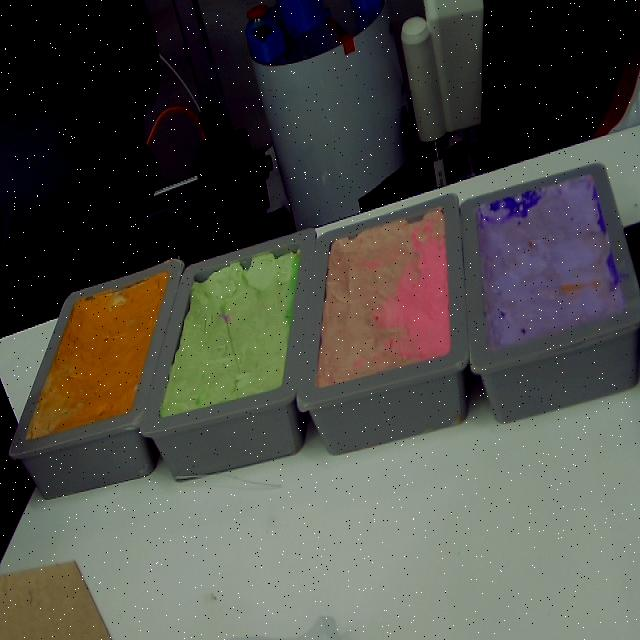block: (458, 162, 640, 424), (295, 189, 469, 451), (138, 228, 321, 476), (6, 260, 184, 499)
